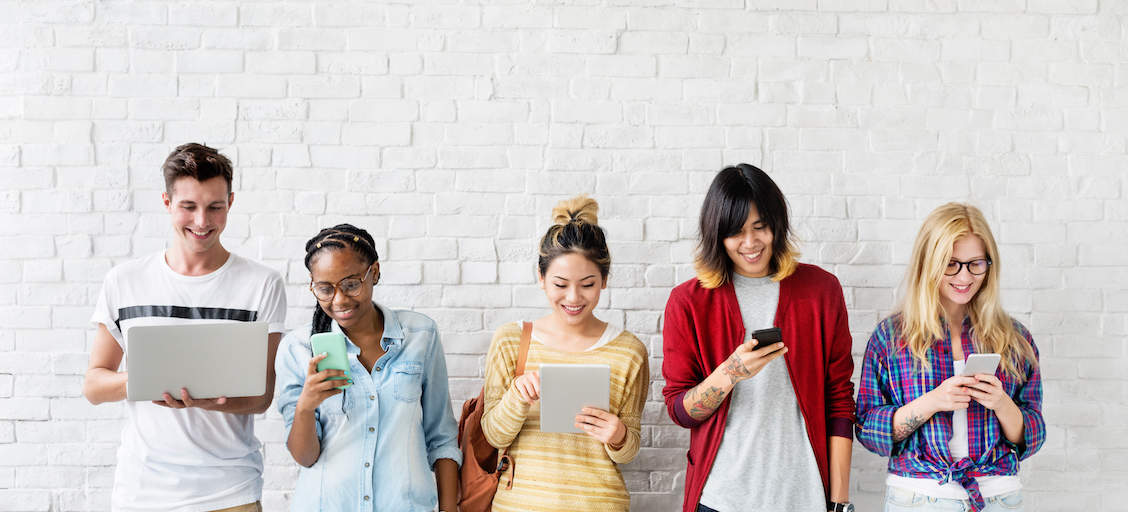Person: (82, 142, 287, 512), (660, 162, 855, 512), (855, 202, 1045, 511), (480, 193, 650, 512), (274, 223, 461, 512)
